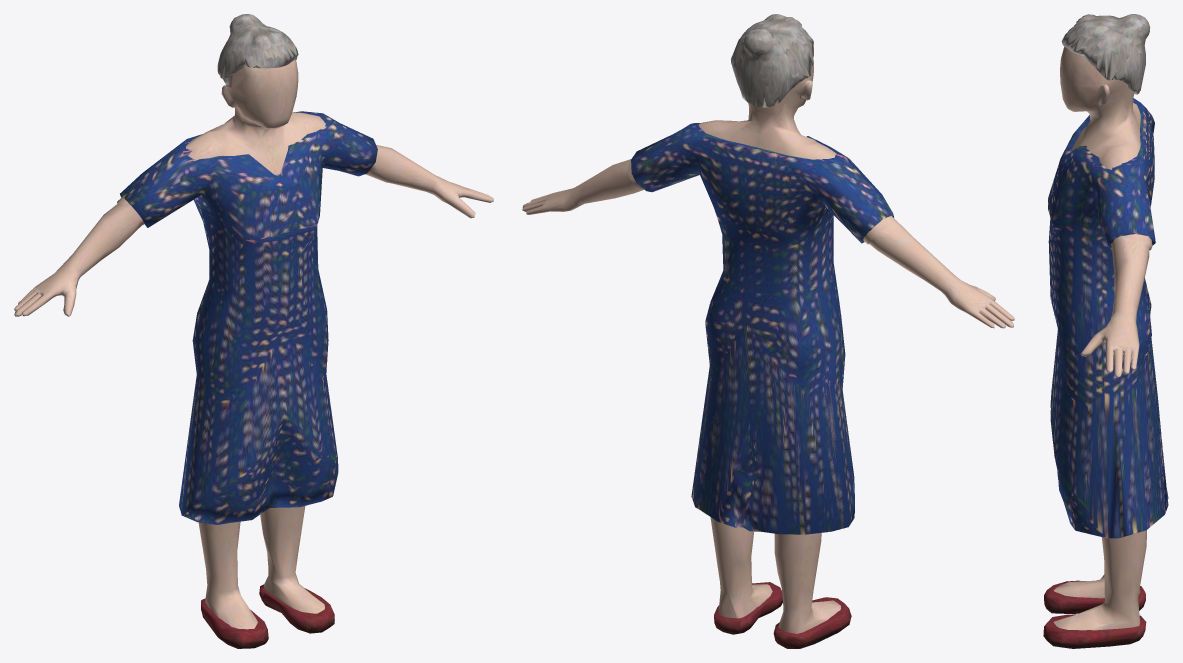
The model's file is npc_x_grandma1.glb.
3 views of the same model, side by side, from view 1: azimuth 30°, elevation 25°; view 2: azimuth 150°, elevation 25°; view 3: azimuth 270°, elevation 25° (orthographic). The views are drawn at different scales.
Visible parts, largest first — view 1: Human; view 2: Human; view 3: Human.
Boxes of the visible parts, x1=… form: Human: x1=14, y1=14, x2=493, y2=648; Human: x1=522, y1=14, x2=1014, y2=648; Human: x1=1043, y1=14, x2=1168, y2=648.
Size of the model in its own units: 1.39 by 1.65 by 0.3065.
1 material, 1 textured.
